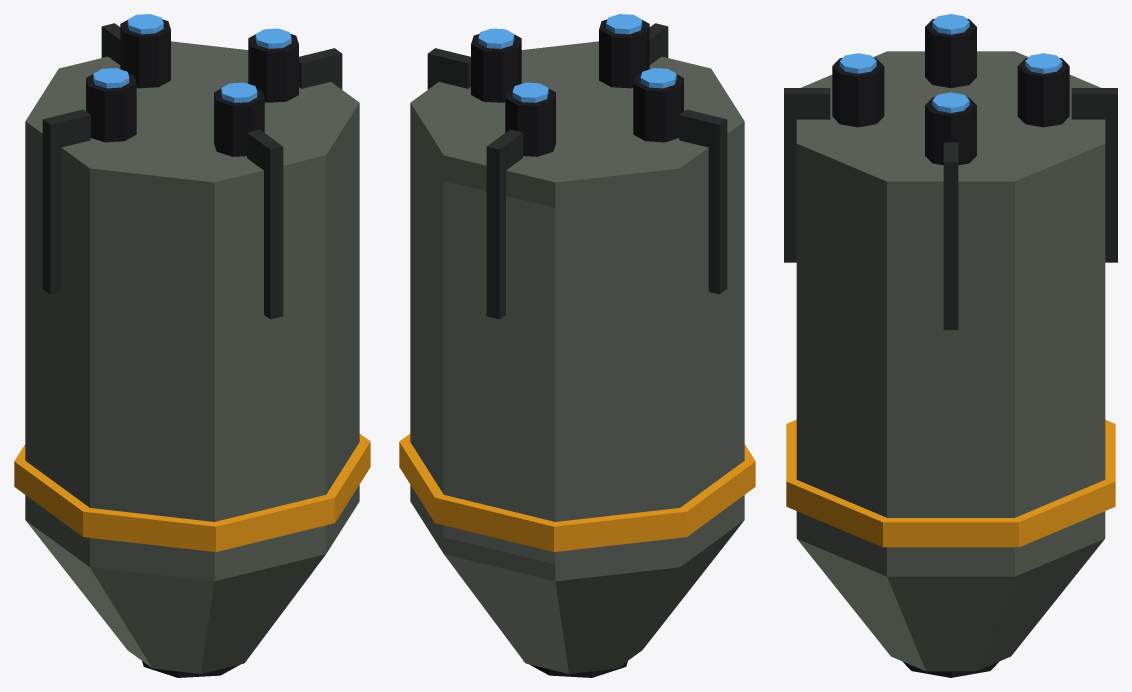
Rendered from ship_XS_DROPPOD.obj.
3 views of the same model, side by side, from view 1: azimuth 30°, elevation 25°; view 2: azimuth 150°, elevation 25°; view 3: azimuth 270°, elevation 25° (orthographic).
Visible parts, largest first — view 1: XS_DROPPOD_Hull-col, XS_DROPPOD_Armor, XS_DROPPOD_Hazard, XS_DROPPOD_Engines, XS_DROPPOD_Trim, XS_DROPPOD_EngineGlow; view 2: XS_DROPPOD_Hull-col, XS_DROPPOD_Door-col, XS_DROPPOD_Armor, XS_DROPPOD_Hazard, XS_DROPPOD_Engines, XS_DROPPOD_Trim, XS_DROPPOD_EngineGlow; view 3: XS_DROPPOD_Hull-col, XS_DROPPOD_Armor, XS_DROPPOD_Engines, XS_DROPPOD_Hazard, XS_DROPPOD_Trim, XS_DROPPOD_EngineGlow.
Part boxes in pixels (x1,y1,x2,y2): XS_DROPPOD_Hull-col: (25,41,359,581); XS_DROPPOD_Armor: (26,521,325,673); XS_DROPPOD_Hazard: (14,433,370,551); XS_DROPPOD_Engines: (86,19,298,677); XS_DROPPOD_Trim: (42,23,342,319); XS_DROPPOD_EngineGlow: (93,14,291,102); XS_DROPPOD_Hull-col: (410,41,744,581); XS_DROPPOD_Door-col: (443,181,555,564); XS_DROPPOD_Armor: (444,521,743,673); XS_DROPPOD_Hazard: (399,433,755,551); XS_DROPPOD_Engines: (471,19,683,677); XS_DROPPOD_Trim: (427,23,727,319); XS_DROPPOD_EngineGlow: (478,14,676,102); XS_DROPPOD_Hull-col: (796,51,1105,576); XS_DROPPOD_Armor: (797,539,1104,671); XS_DROPPOD_Engines: (832,18,1069,677); XS_DROPPOD_Hazard: (786,420,1115,547); XS_DROPPOD_Trim: (784,88,1117,329); XS_DROPPOD_EngineGlow: (839,14,1062,112).
Size of the model in its own units: 1.8 by 3.53 by 1.8.
